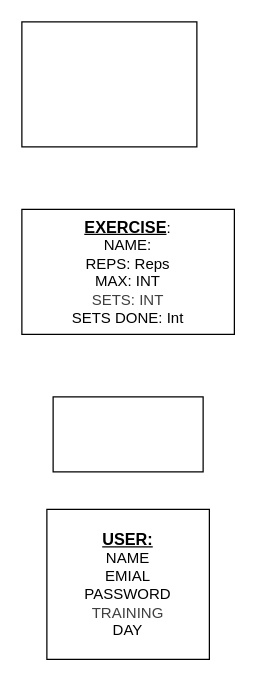
This 256x681 diagram has some shape labels left out. The shapes that lost their labels are listed below. From the top down, each one's centre as x and y in pixels, then its label:
(x=109, y=84): TRAINING : NAME: STRING EXERCISES - exercise
(x=127, y=434): DAY DATE TRAINING
